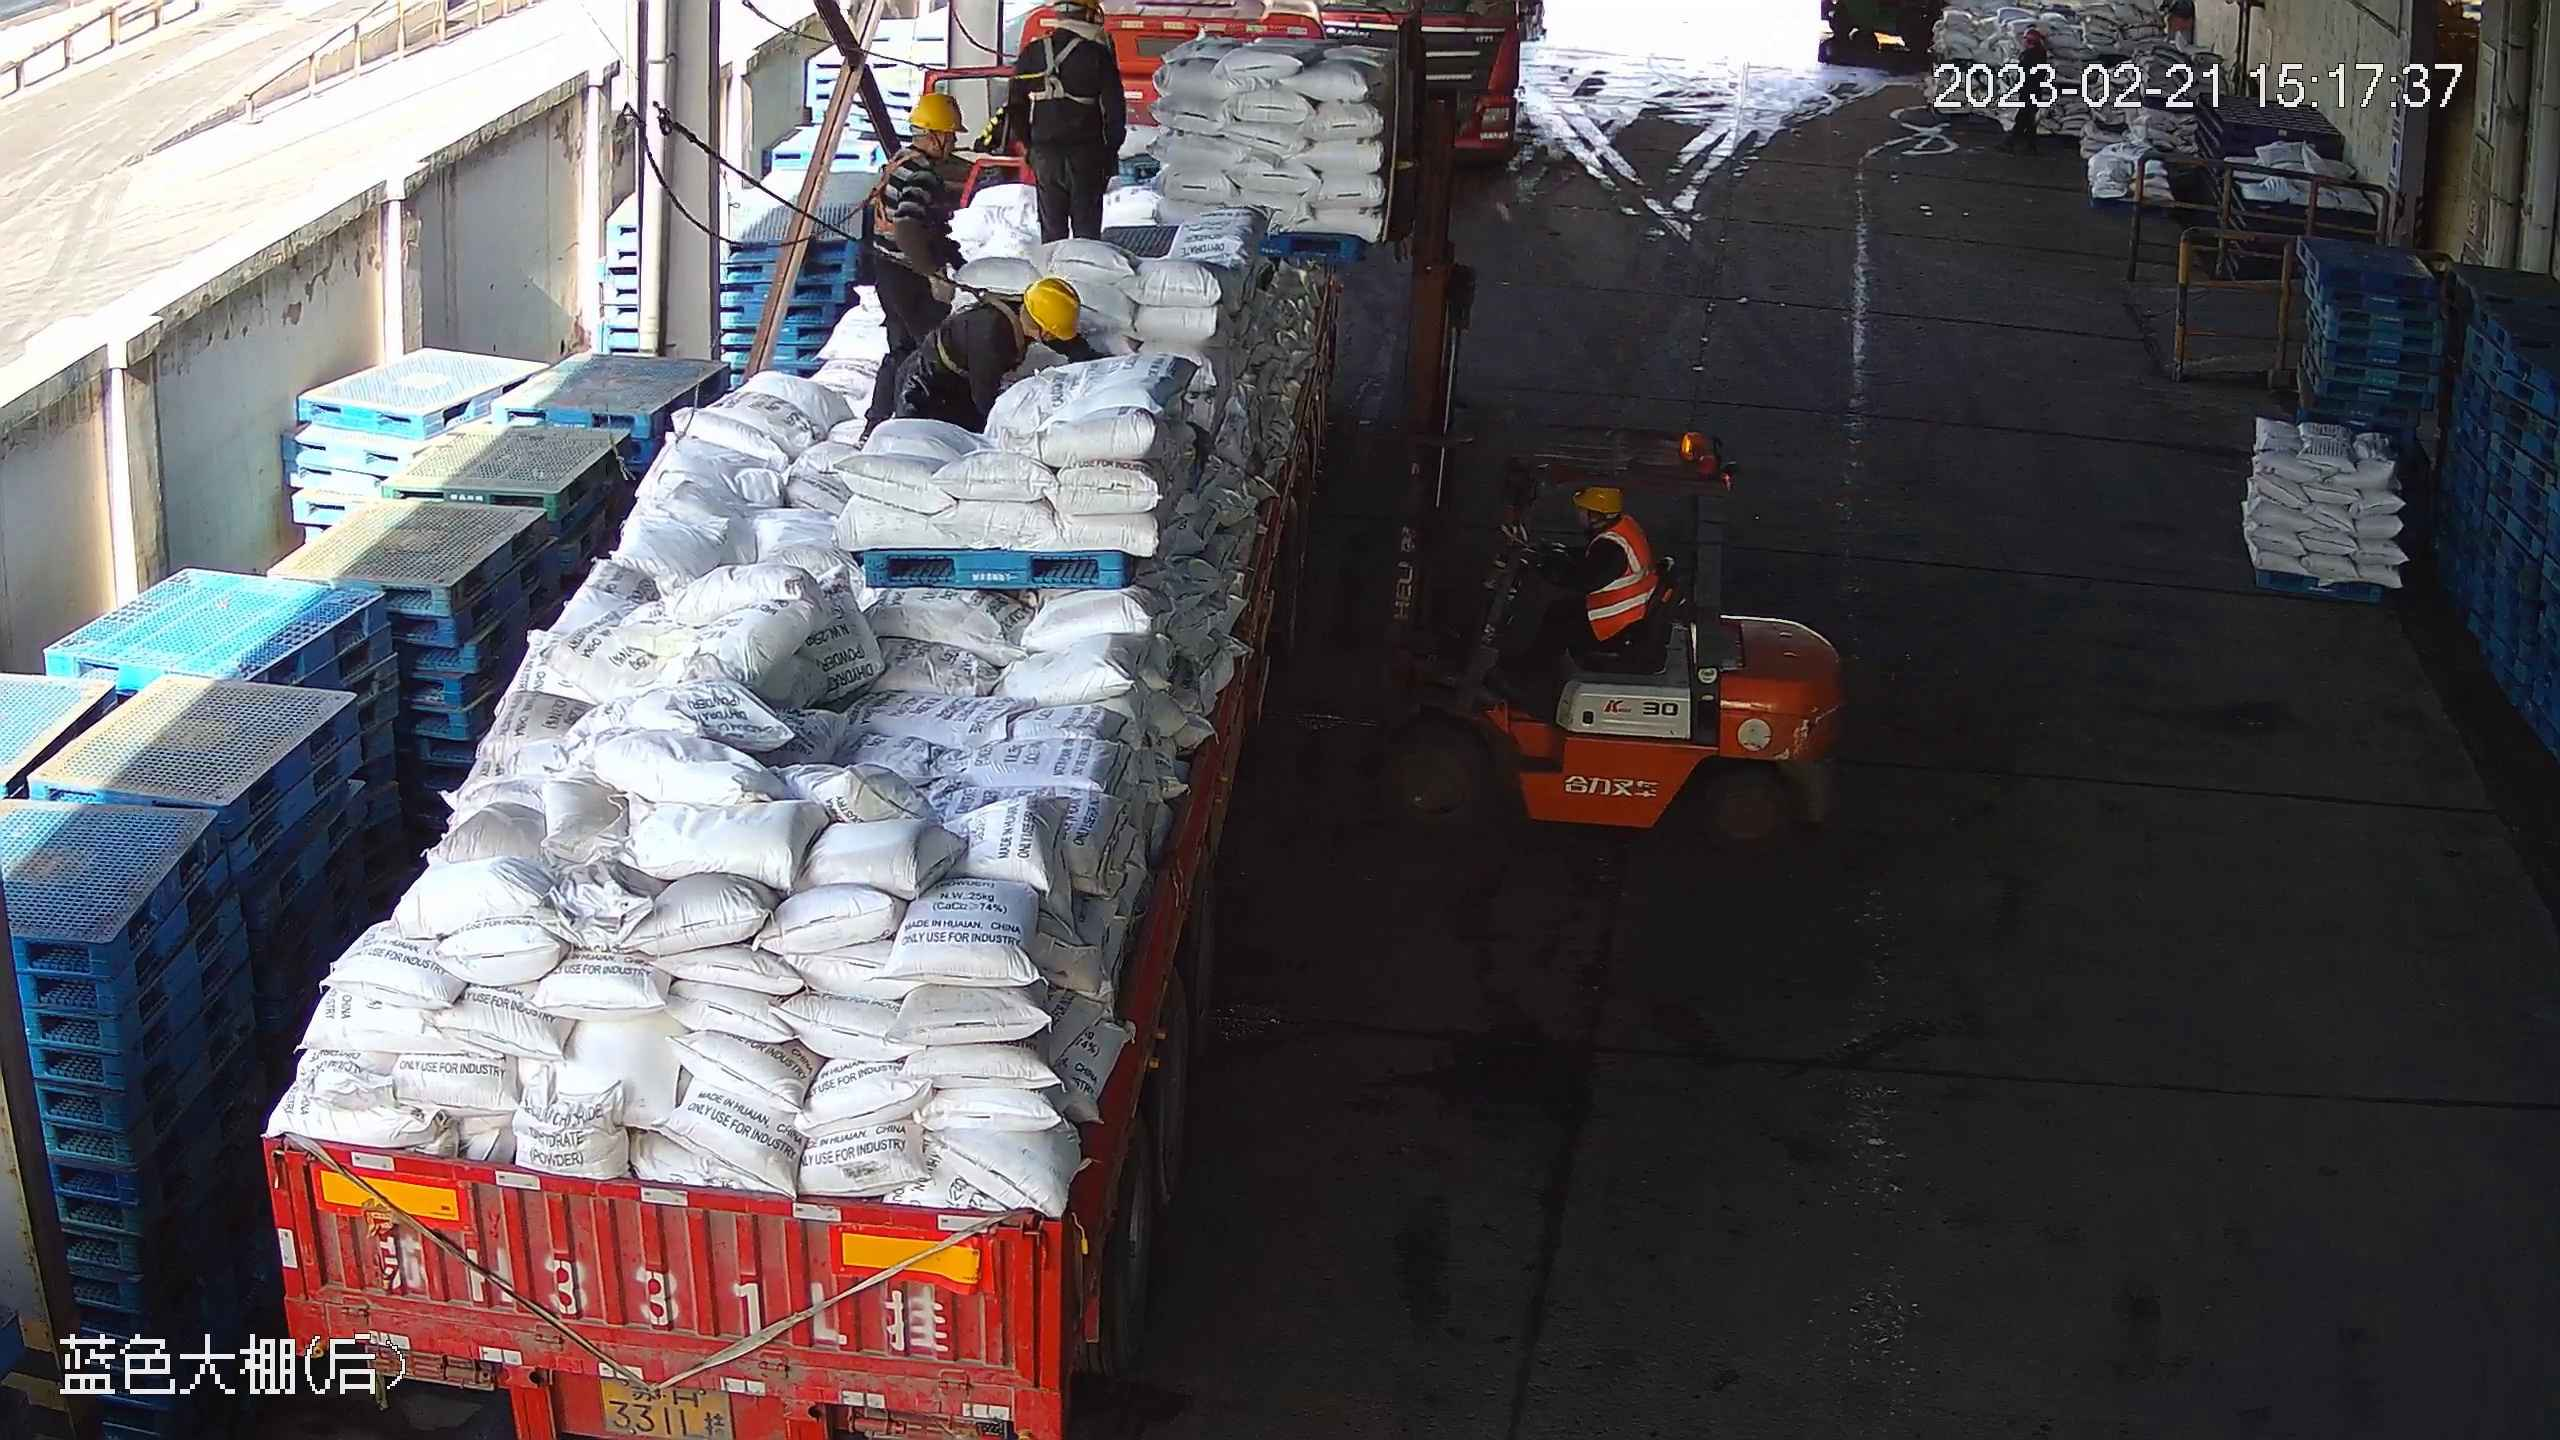belt: (937, 281, 1018, 371), (860, 151, 941, 234), (1030, 37, 1106, 106)
head: (981, 272, 1088, 360), (886, 93, 965, 185), (1556, 483, 1635, 564), (1027, 1, 1116, 64)
helmet: (1018, 272, 1079, 341), (907, 93, 970, 137), (1577, 483, 1620, 518)
people: (1483, 474, 1655, 706), (855, 92, 960, 439), (895, 278, 1106, 430), (1013, 2, 1123, 243)
truck: (253, 1, 1372, 1440)
